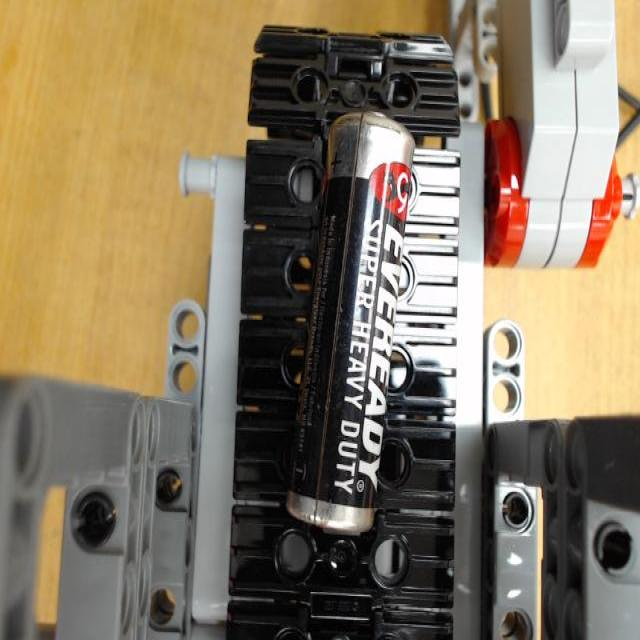AA: (294, 102, 416, 535)
